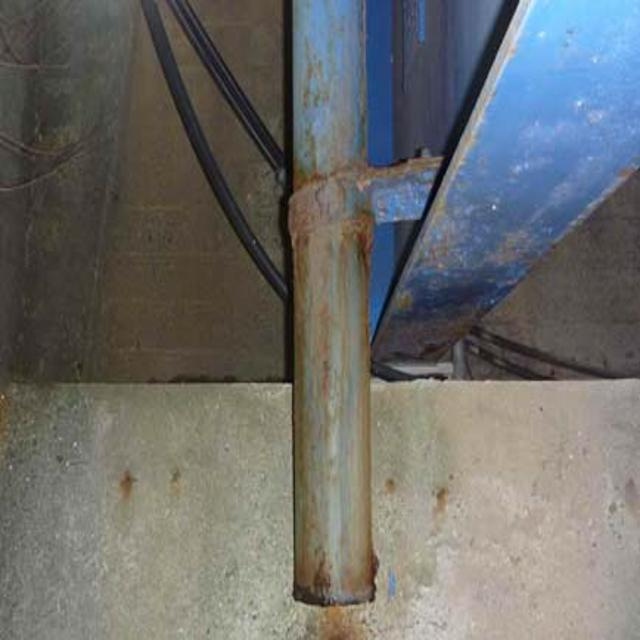corrosion: (287, 153, 403, 634)
